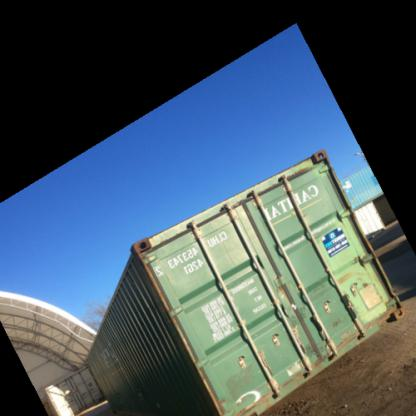Damage: (223, 362, 270, 396), (284, 322, 312, 352), (328, 317, 348, 333)
